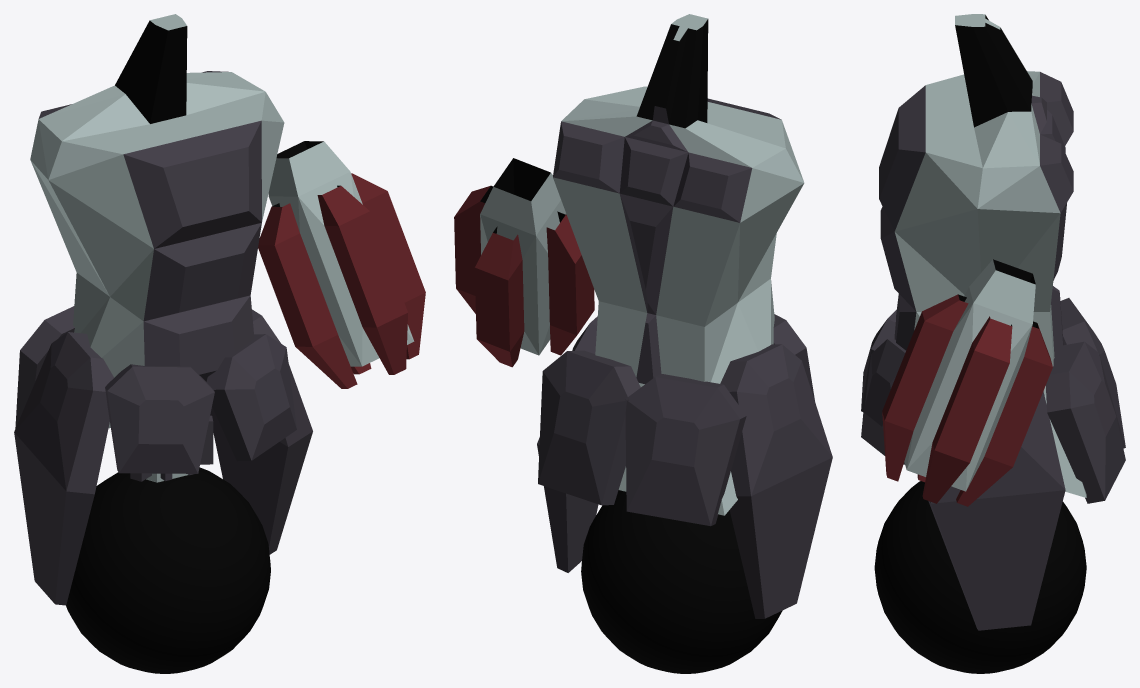
File: character_body.glb
The picture shows the model from 3 angles, left to right: view 1: azimuth 30°, elevation 25°; view 2: azimuth 150°, elevation 25°; view 3: azimuth 270°, elevation 25°; orthographic projection.
Parts seen in each view (by area): view 1: Cube, Cube.002, Sphere, Cube.004; view 2: Cube, Cube.002, Sphere, Cube.004; view 3: Cube, Cube.002, Cube.004, Sphere.
Part boxes in pixels (x1,y1,x2,y2): Cube: (30, 14, 284, 482); Cube.002: (14, 306, 312, 605); Sphere: (66, 467, 270, 673); Cube.004: (258, 141, 425, 388); Cube: (553, 14, 804, 515); Cube.002: (537, 314, 832, 618); Sphere: (581, 490, 782, 673); Cube.004: (454, 158, 594, 367); Cube: (879, 14, 1086, 497); Cube.002: (861, 298, 1125, 630); Cube.004: (882, 259, 1052, 506); Sphere: (874, 481, 1086, 673).
Bounding box in the file's own units: 4.51 × 7.7 × 2.87.
